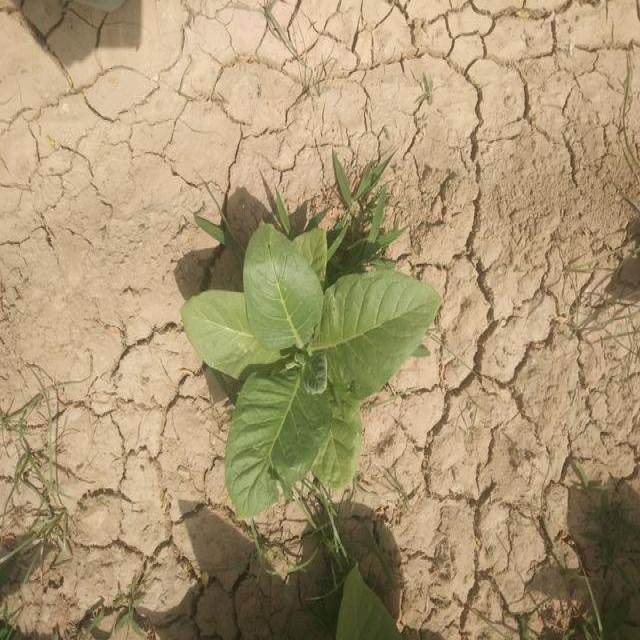crop: (186, 213, 440, 524)
